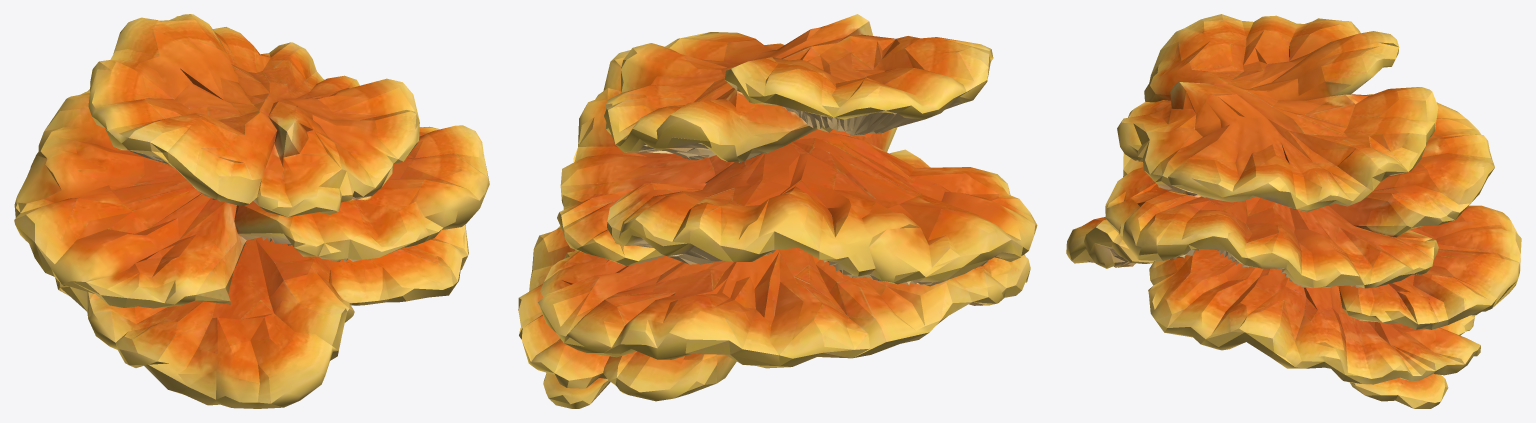
File: kukurt.glb
3 views of the same model, side by side, from view 1: azimuth 30°, elevation 25°; view 2: azimuth 150°, elevation 25°; view 3: azimuth 270°, elevation 25° (orthographic). The views are drawn at different scales.
Parts seen in each view (by area): view 1: output_unwrapped; view 2: output_unwrapped; view 3: output_unwrapped.
Part boxes in pixels (x1,y1,x2,y2): output_unwrapped: (14,14,489,408); output_unwrapped: (518,14,1037,408); output_unwrapped: (1066,14,1521,408).
Bounding box in the file's own units: 1.82 × 1.34 × 1.89.
Materials: 1 (1 with a texture image).
